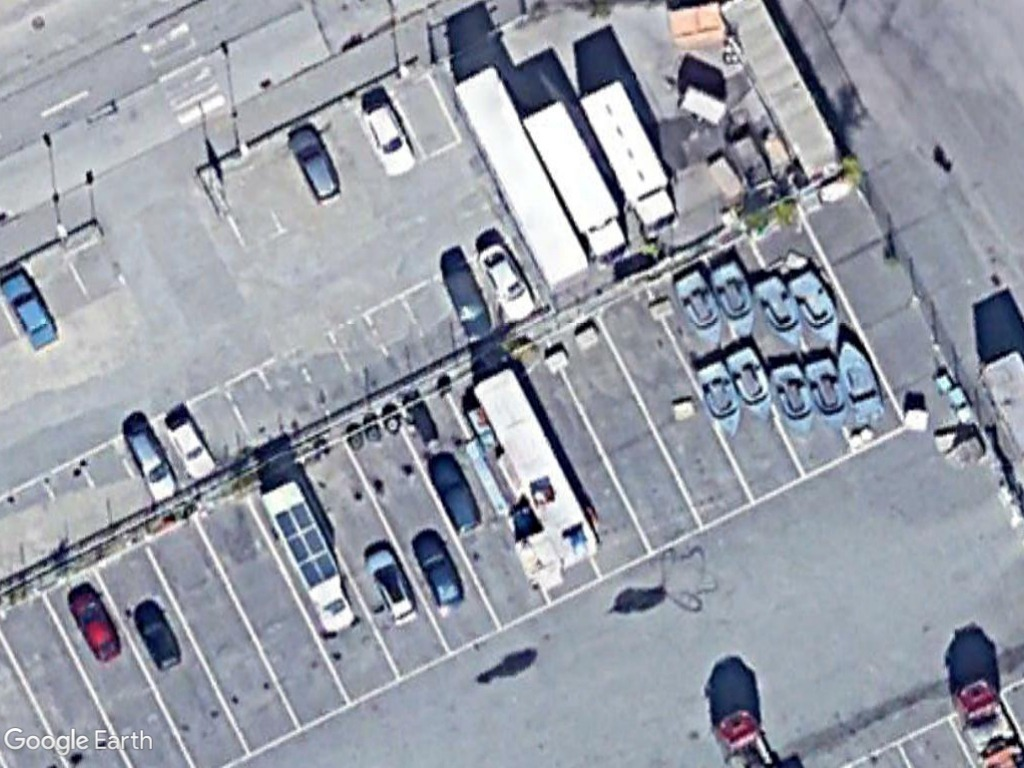car: (471, 233, 542, 322), (0, 260, 67, 349), (281, 123, 348, 210), (358, 544, 425, 630), (424, 447, 487, 535), (434, 256, 497, 343), (61, 583, 126, 666), (355, 98, 418, 183), (119, 421, 182, 505), (408, 524, 468, 607), (130, 594, 187, 672), (163, 408, 219, 478)
truck: (520, 97, 631, 263), (575, 77, 684, 234)
